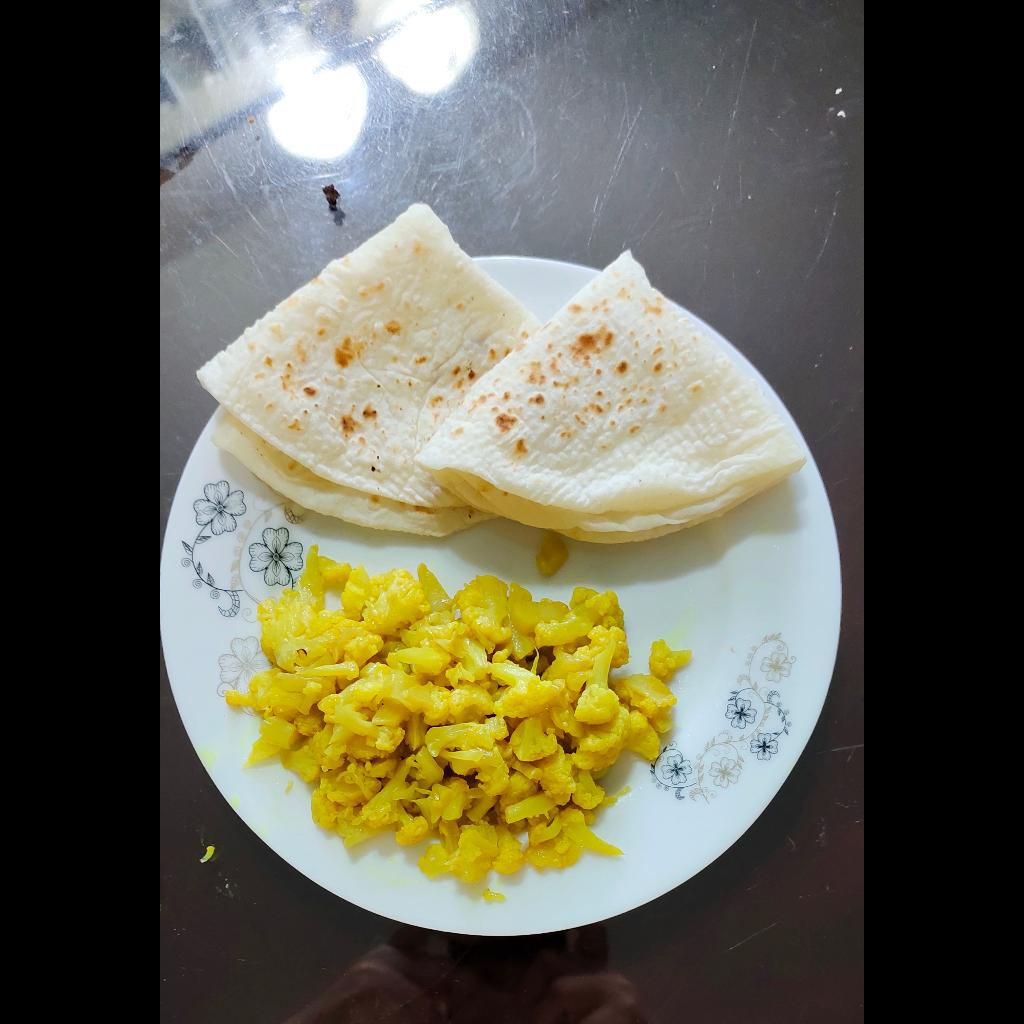cauliflower: (231, 540, 692, 888)
ruti: (191, 193, 807, 541)
